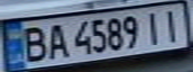4: (69, 17, 93, 56)
5: (90, 16, 109, 54)
8: (106, 15, 127, 52)
9: (121, 12, 145, 48)
A: (42, 20, 69, 60)
B: (18, 24, 51, 63)
I: (157, 7, 187, 43), (142, 8, 169, 45)
